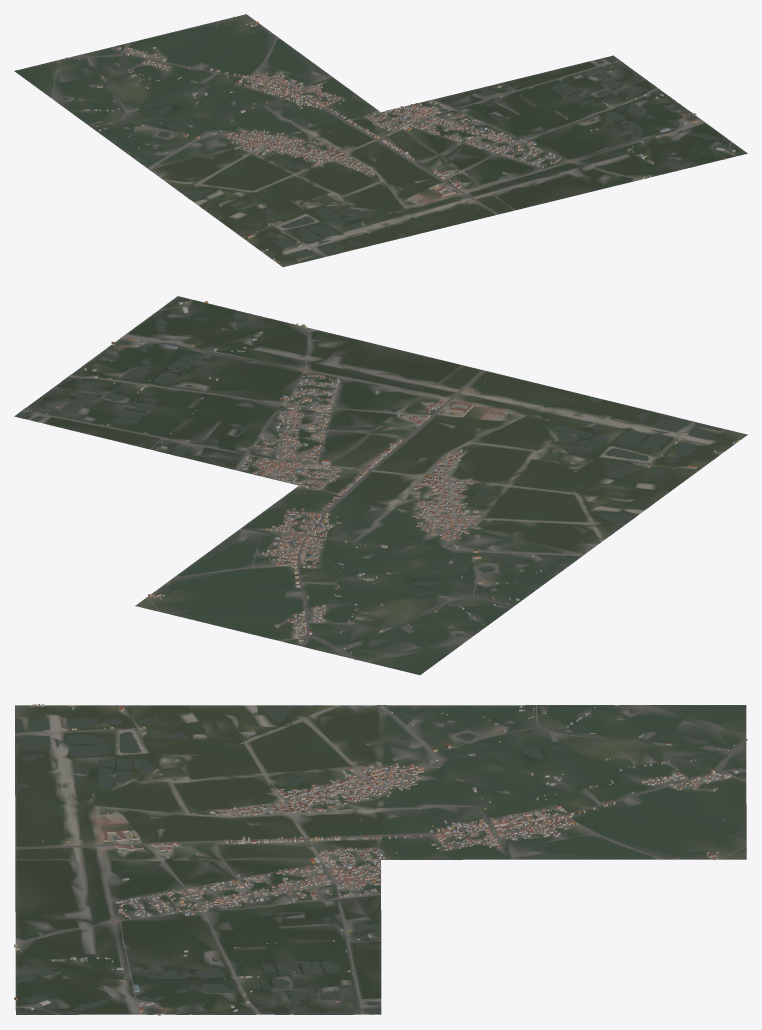
3 views of the same model, one above another, from view 1: azimuth 30°, elevation 25°; view 2: azimuth 150°, elevation 25°; view 3: azimuth 270°, elevation 25° (orthographic). The views are drawn at different scales.
Visible parts, largest first — view 1: ground, buildings, water, roads; view 2: ground, buildings, water, roads; view 3: ground, buildings, water, roads.
Boxes of the visible parts, x1,y1,x2,y2 form: ground: (14,14,747,267); buildings: (73,16,735,262); water: (54,56,729,263); roads: (51,19,736,256); ground: (14,296,747,674); buildings: (46,301,739,653); water: (17,305,735,661); roads: (22,299,693,661); ground: (15,705,746,1014); buildings: (14,704,746,1015); water: (15,705,739,1014); roads: (15,705,747,1014).
Size of the model in its own units: 2819 by 25.47 by 2814.
